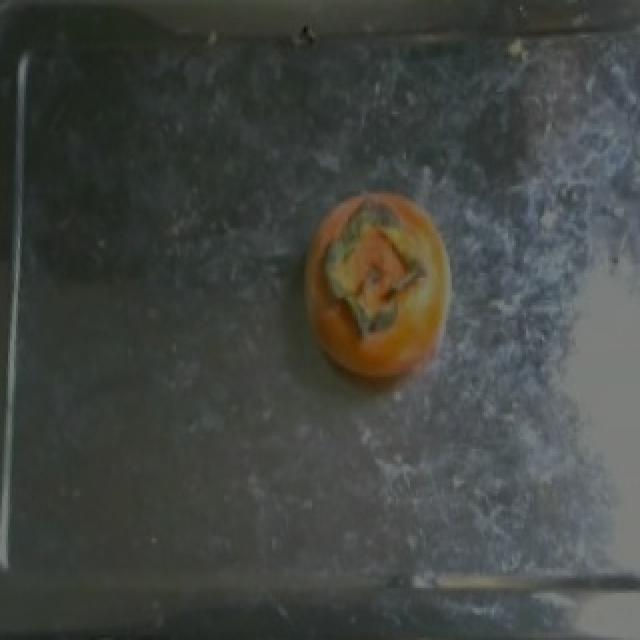Fruit: (286, 172, 472, 400)
